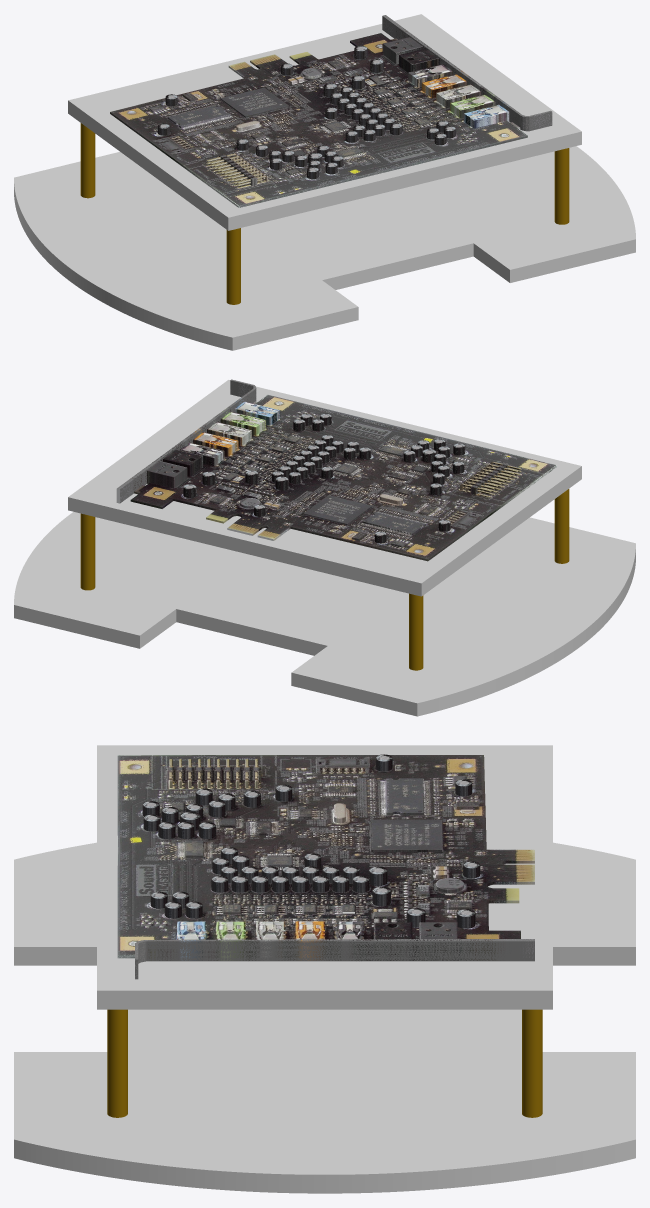
Rendered from MY_CHASIS.dae.
3 renders of one model, top to bottom at view 1: azimuth 30°, elevation 25°; view 2: azimuth 150°, elevation 25°; view 3: azimuth 270°, elevation 25°, orthographic. The views are drawn at different scales.
Parts seen in each view (by area): view 1: MY_CHASIS (×3), MY_CIRCUIT (×4), MY_TABLE (×4); view 2: MY_CHASIS (×3), MY_CIRCUIT (×4), MY_TABLE (×4); view 3: MY_CHASIS (×2), MY_CIRCUIT (×5), MY_TABLE (×3).
Part boxes in pixels (x1,y1,x2,y2): MY_CHASIS (×3): (14,146,635,350); MY_CIRCUIT (×4): (110,15,552,207); MY_TABLE (×4): (68,14,581,304); MY_CHASIS (×3): (14,511,635,716); MY_CIRCUIT (×4): (116,379,556,561); MY_TABLE (×4): (68,380,581,670); MY_CHASIS (×2): (14,842,635,1193); MY_CIRCUIT (×5): (117,755,534,979); MY_TABLE (×3): (97,745,552,1117).
Bounding box in the file's own units: 15.75 × 11.81 × 3.57.
Materials: 4 (1 with a texture image).
